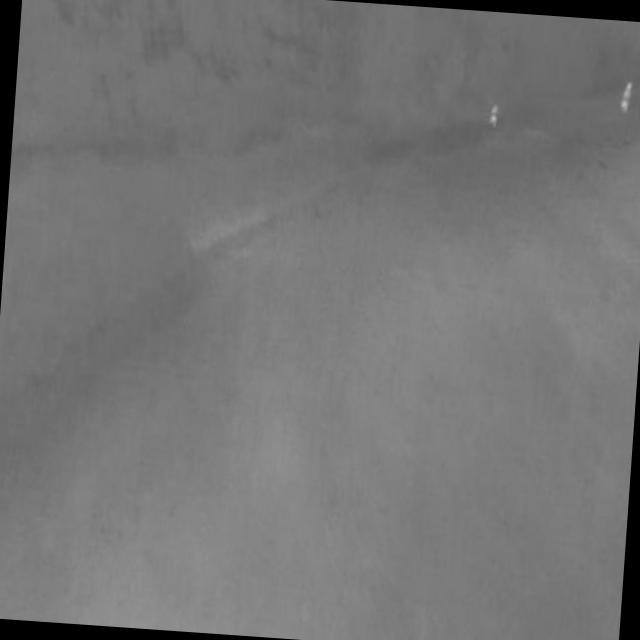person: (619, 82, 634, 114), (488, 103, 500, 129)
